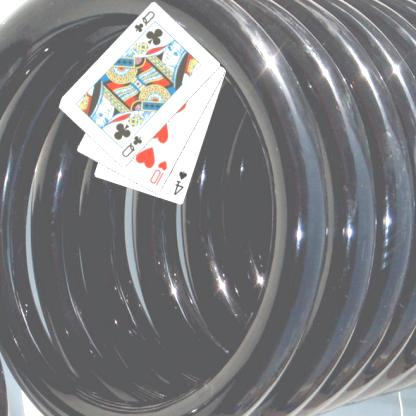10H: (146, 158, 168, 187)
4S: (171, 168, 189, 197)
QC: (118, 133, 144, 159), (131, 8, 156, 34)
